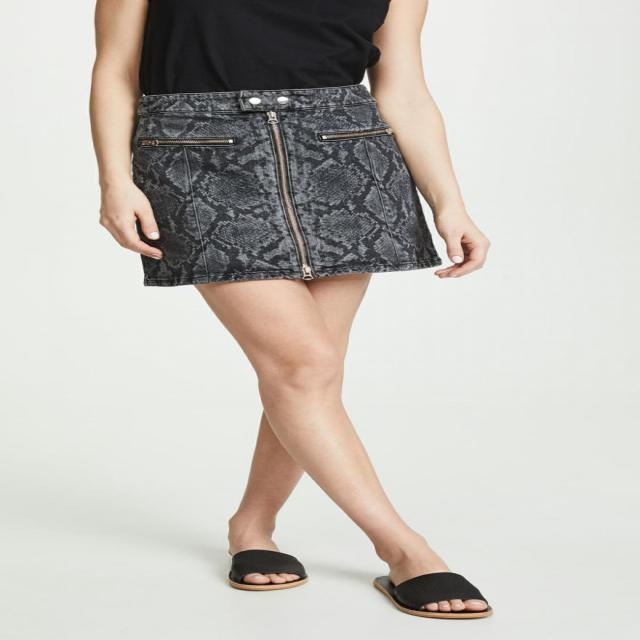skirt: (78, 71, 460, 292)
